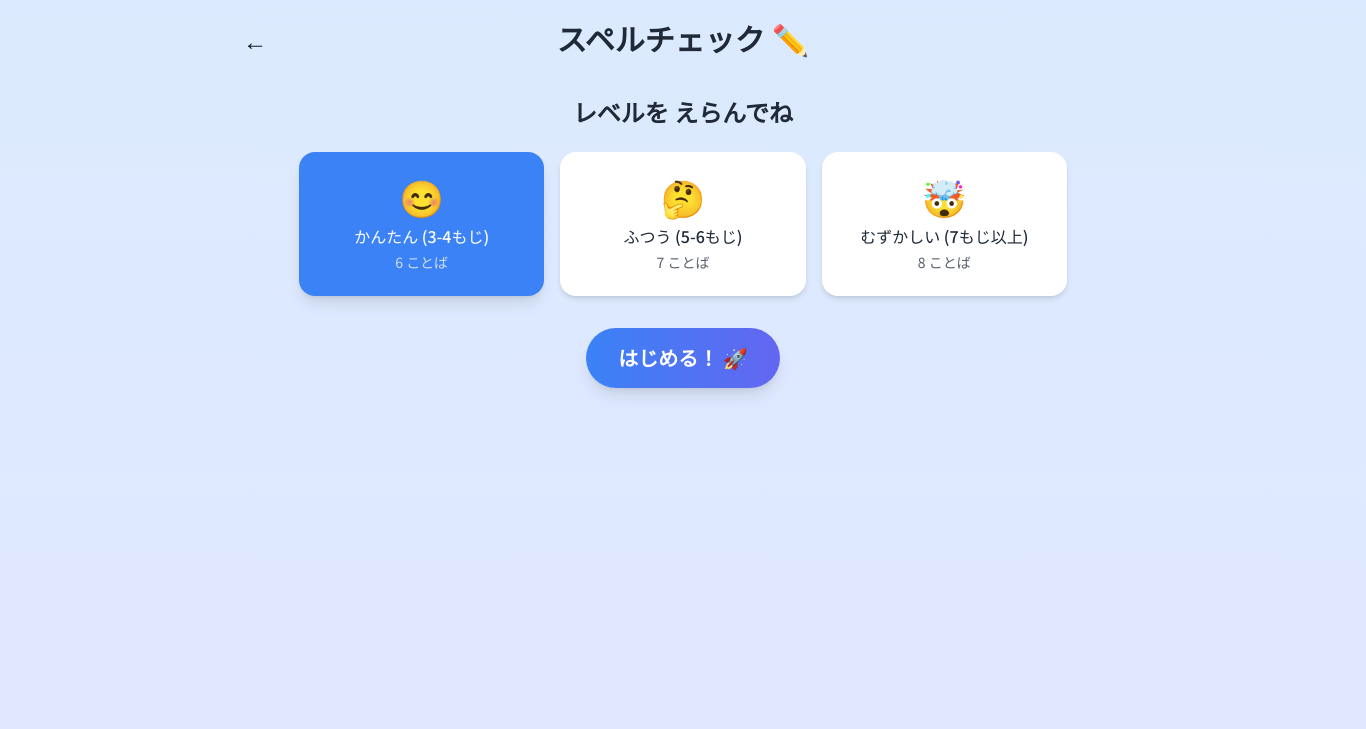
SpellingGamePage › disables alphabet buttons after answer is checked
The image size is (1366, 729).
Click the button "はじめる！ 🚀": point(683, 358) x1=586 y1=328 x2=780 y2=388
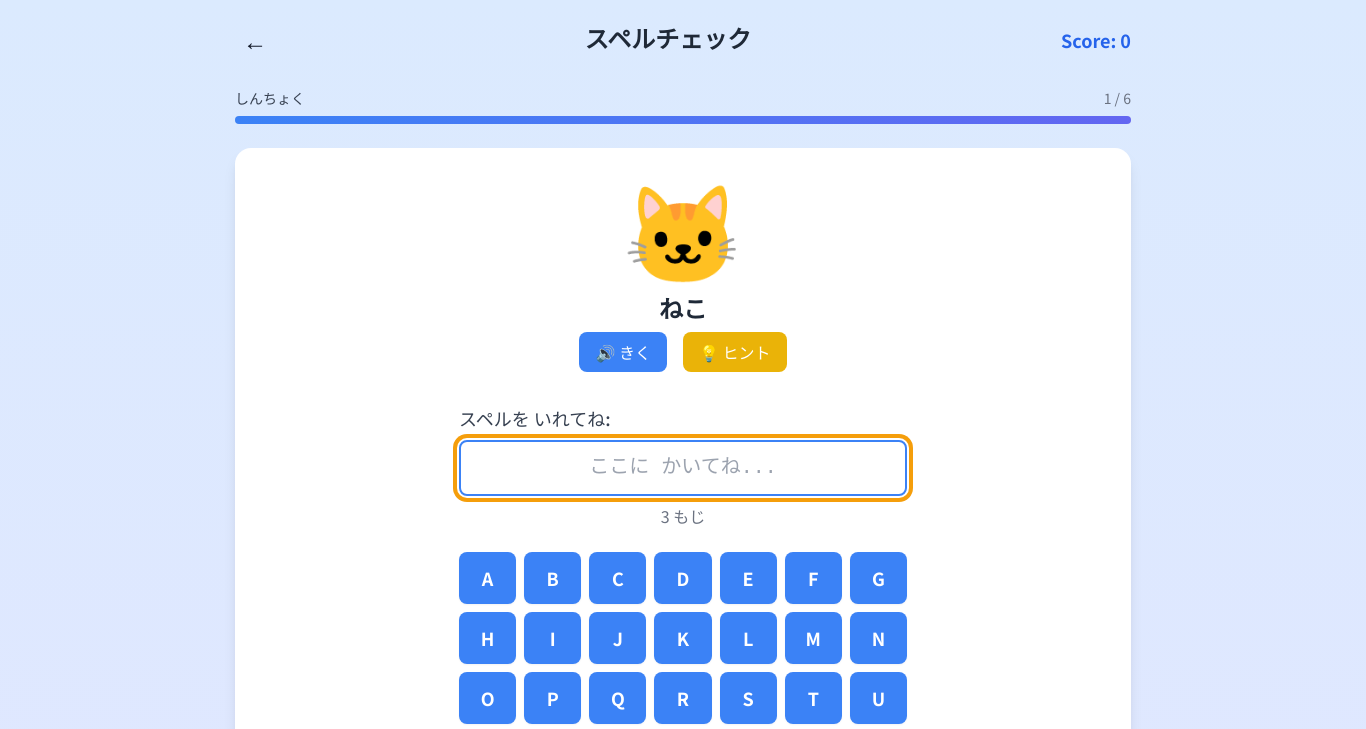
In the field with placeholder "ここに かいてね...": point(683, 468) x1=459 y1=440 x2=907 y2=496, type "test"
(page scrolled)
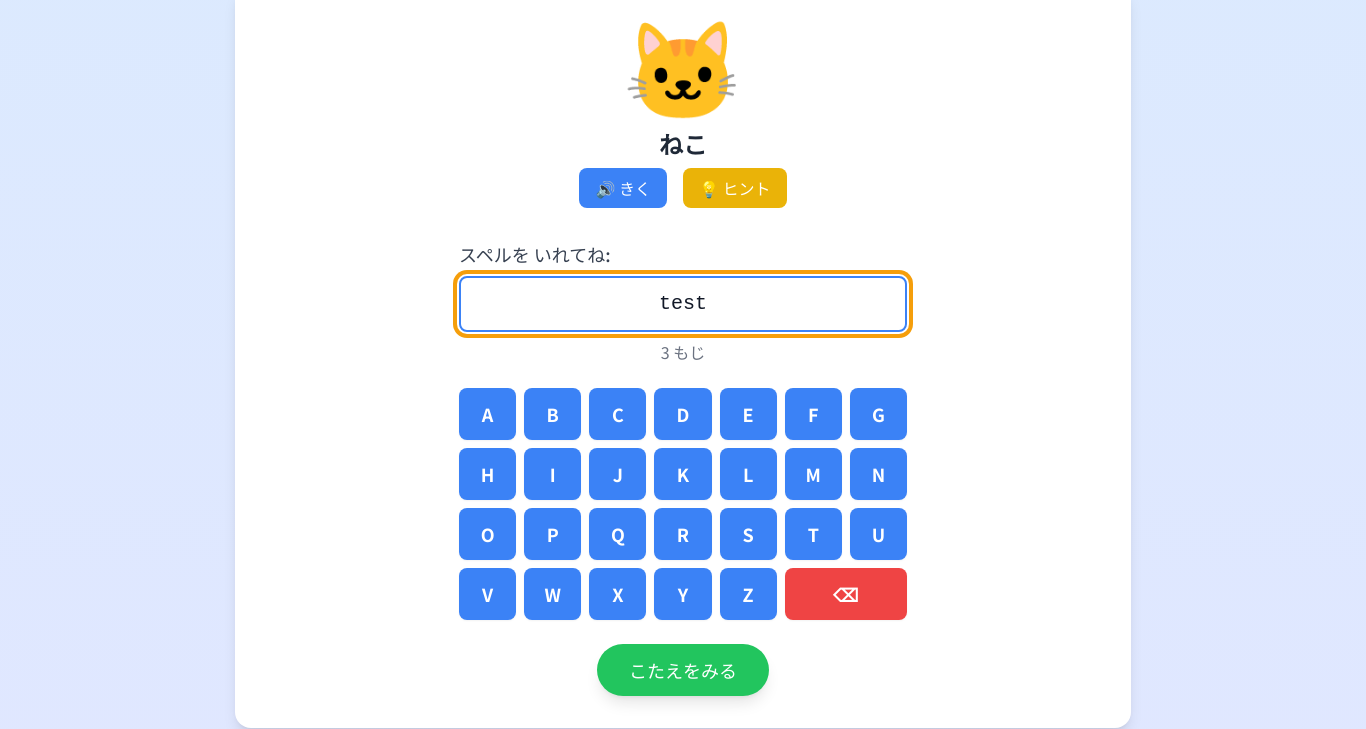
Click the button "こたえをみる": point(683, 670) x1=597 y1=644 x2=769 y2=696
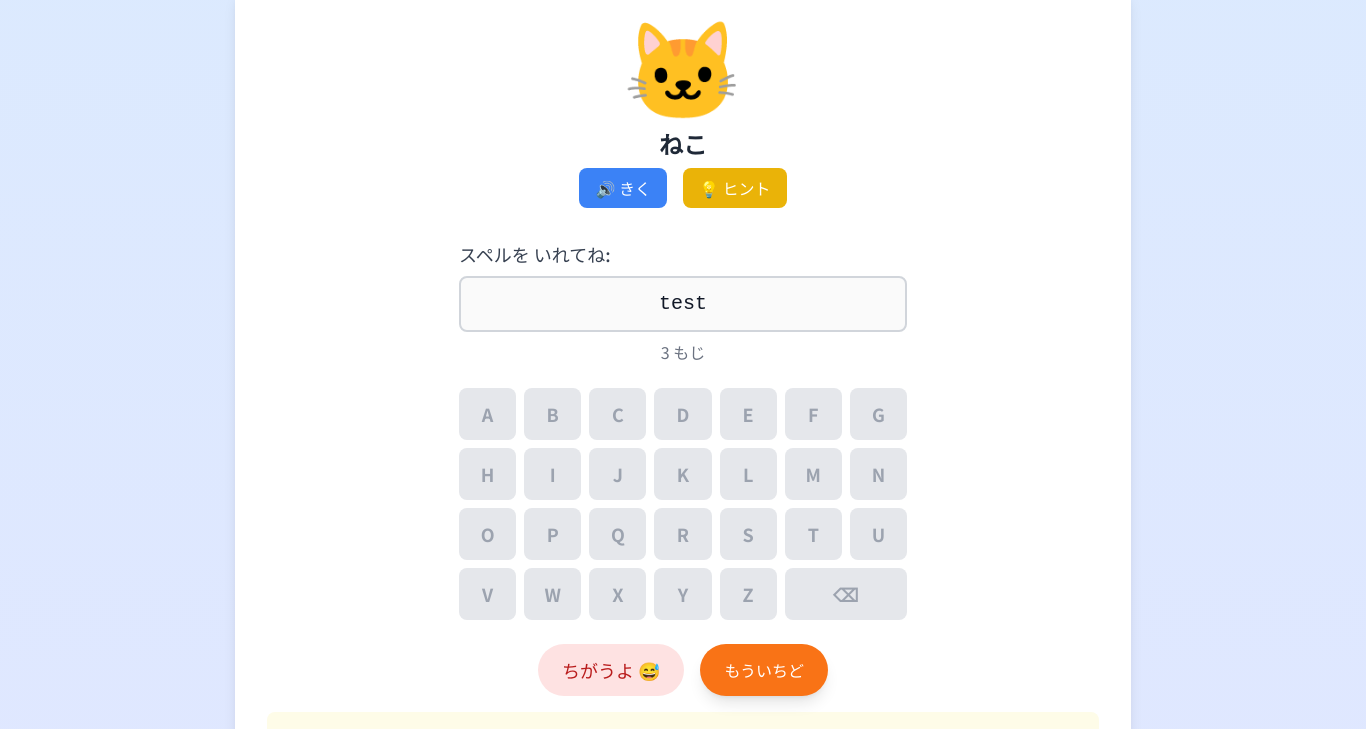
Expected: the button "A" is disabled, x1=459 y1=388 x2=516 y2=440
Expected: the button "B" is disabled, x1=524 y1=388 x2=581 y2=440
Expected: the button "C" is disabled, x1=589 y1=388 x2=646 y2=440
